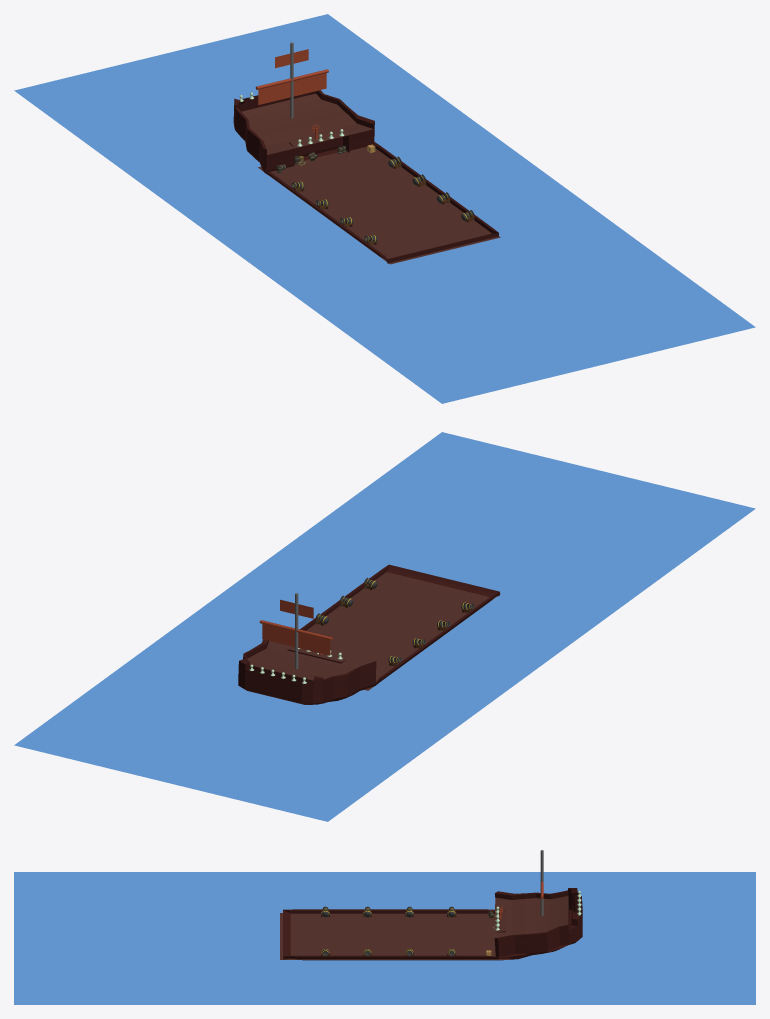
The model's file is pirates environment.fbx.
3 renders of one model, top to bottom at view 1: azimuth 30°, elevation 25°; view 2: azimuth 150°, elevation 25°; view 3: azimuth 270°, elevation 25°, orthographic. The views are drawn at different scales.
Visible parts, largest first — view 1: Plane.004; view 2: Plane.004; view 3: Plane.004.
Part boxes in pixels (x1,y1,x2,y2): Plane.004: [14, 14, 755, 403]; Plane.004: [14, 432, 755, 821]; Plane.004: [14, 850, 755, 1004].
Size of the model in its own units: 4479 by 1385 by 10579.
